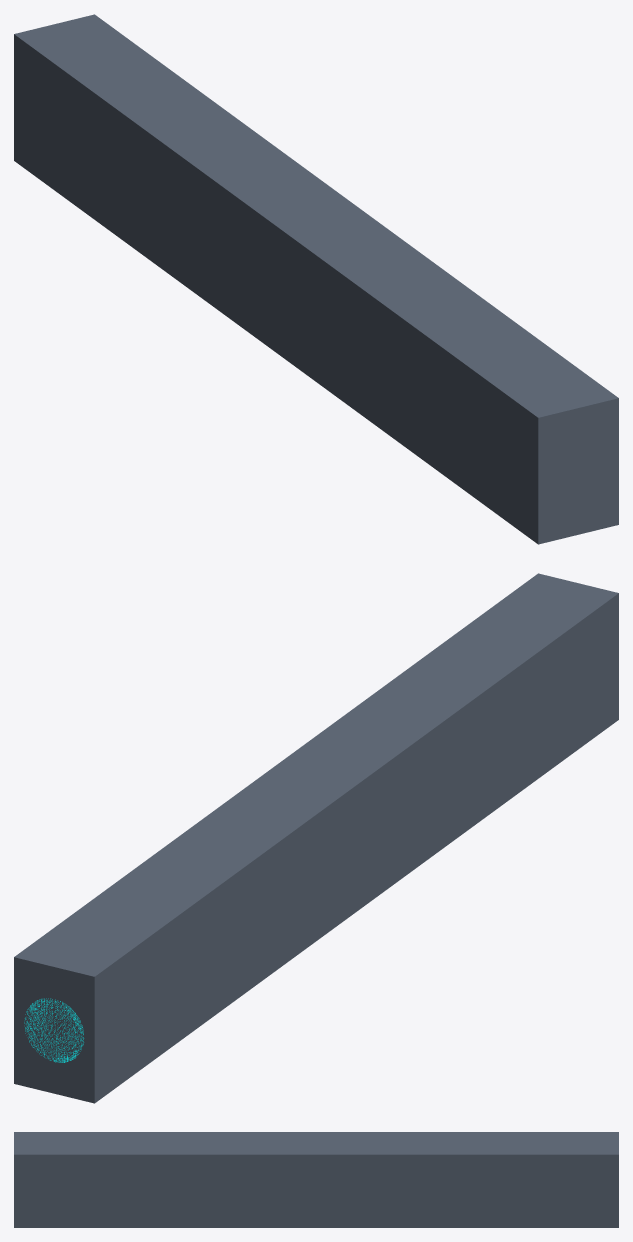
Rendered from scifi_laser_gun.glb.
3 views of the same model, one above another, from view 1: azimuth 30°, elevation 25°; view 2: azimuth 150°, elevation 25°; view 3: azimuth 270°, elevation 25° (orthographic). The views are drawn at different scales.
Parts seen in each view (by area): view 1: Cube; view 2: Cube, Cylinder; view 3: Cube.
Boxes of the visible parts, left/top/right/bottom form: Cube: left=14, top=14, right=618, bottom=544; Cube: left=14, top=573, right=618, bottom=1103; Cylinder: left=24, top=998, right=83, bottom=1062; Cube: left=14, top=1132, right=618, bottom=1227.
Bounding box in the file's own units: 0.04 × 0.06 × 0.45.
